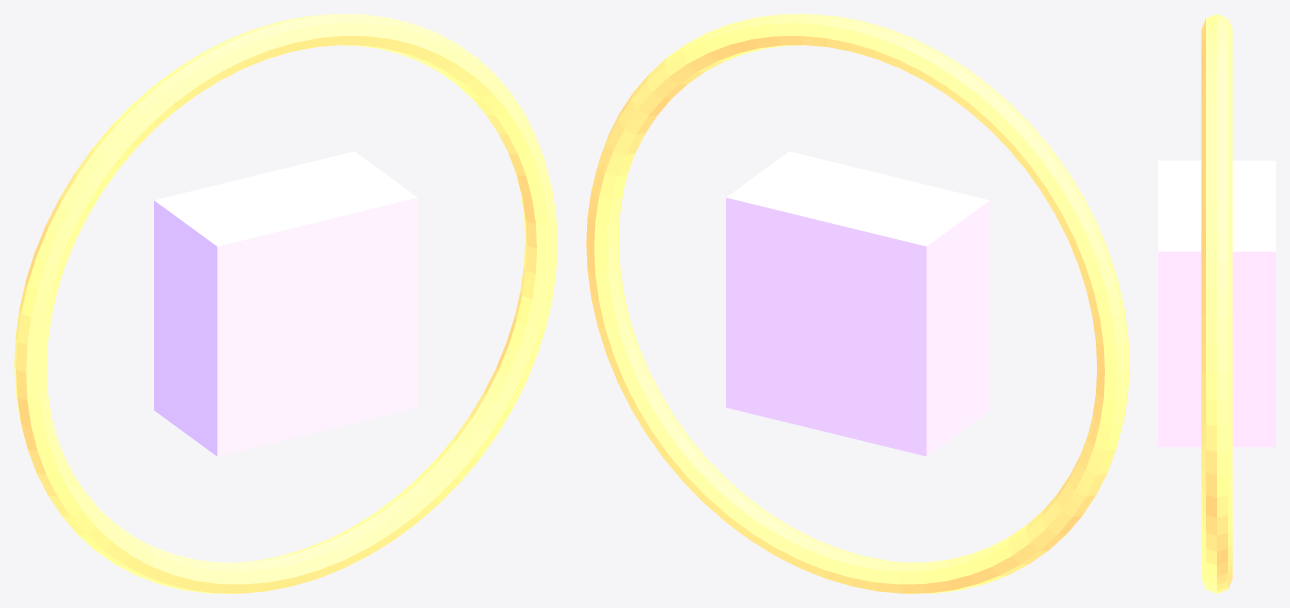
Rendered from hexad-data-fragment.glb.
3 views of the same model, side by side, from view 1: azimuth 30°, elevation 25°; view 2: azimuth 150°, elevation 25°; view 3: azimuth 270°, elevation 25° (orthographic). The views are drawn at different scales.
Visible parts, largest first — view 1: Fragment_Core, Fragment_Ring; view 2: Fragment_Core, Fragment_Ring; view 3: Fragment_Core, Fragment_Ring.
Boxes of the visible parts, box(x1,y1,x2,y2) form: Fragment_Core: box(154, 151, 417, 456); Fragment_Ring: box(14, 14, 557, 593); Fragment_Core: box(726, 151, 989, 456); Fragment_Ring: box(586, 14, 1129, 593); Fragment_Core: box(1158, 160, 1275, 447); Fragment_Ring: box(1201, 14, 1232, 593).
Bounding box in the file's own units: 0.592 × 0.592 × 0.12.
